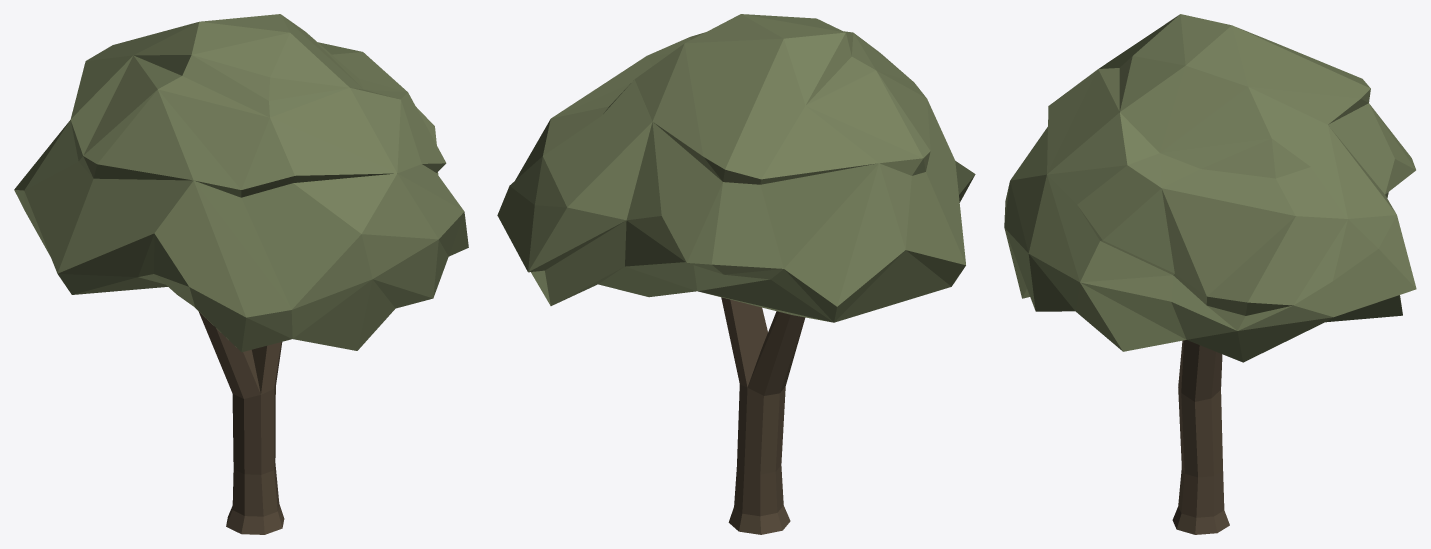
The model's file is SM_Tree_04.fbx.
The picture shows the model from 3 angles, left to right: view 1: azimuth 30°, elevation 25°; view 2: azimuth 150°, elevation 25°; view 3: azimuth 270°, elevation 25°; orthographic projection. The views are drawn at different scales.
Parts seen in each view (by area): view 1: SM_Tree_04; view 2: SM_Tree_04; view 3: SM_Tree_04.
Part boxes in pixels (x1=…): SM_Tree_04: x1=14, y1=14, x2=468, y2=534; SM_Tree_04: x1=497, y1=14, x2=975, y2=534; SM_Tree_04: x1=1004, y1=14, x2=1416, y2=534.
Bounding box in the file's own units: 399 × 470 × 366.
1 material, 1 textured.
